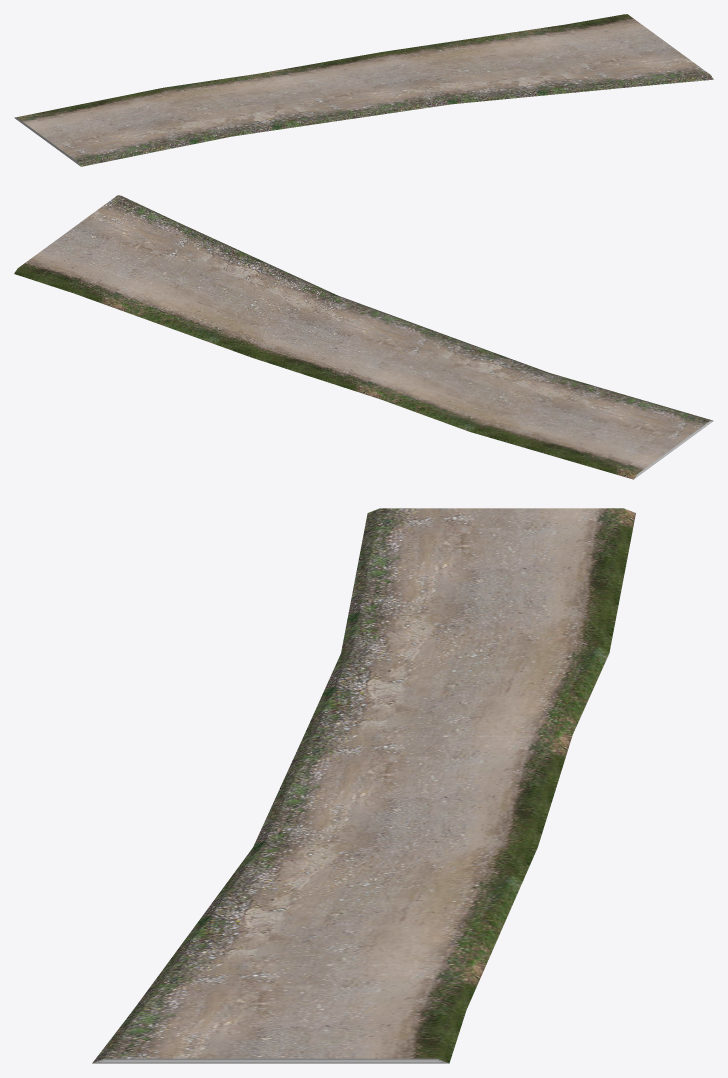
The model's file is road.fbx.
The picture shows the model from 3 angles, top to bottom: view 1: azimuth 30°, elevation 25°; view 2: azimuth 150°, elevation 25°; view 3: azimuth 270°, elevation 25°; orthographic projection. The views are drawn at different scales.
Parts seen in each view (by area): view 1: pCube1; view 2: pCube1; view 3: pCube1.
Boxes of the visible parts, x1,y1,x2,y2 form: pCube1: (14,14,713,166); pCube1: (14,195,713,479); pCube1: (92,508,635,1063).
Size of the model in its own units: 29999 by 122 by 12532.
